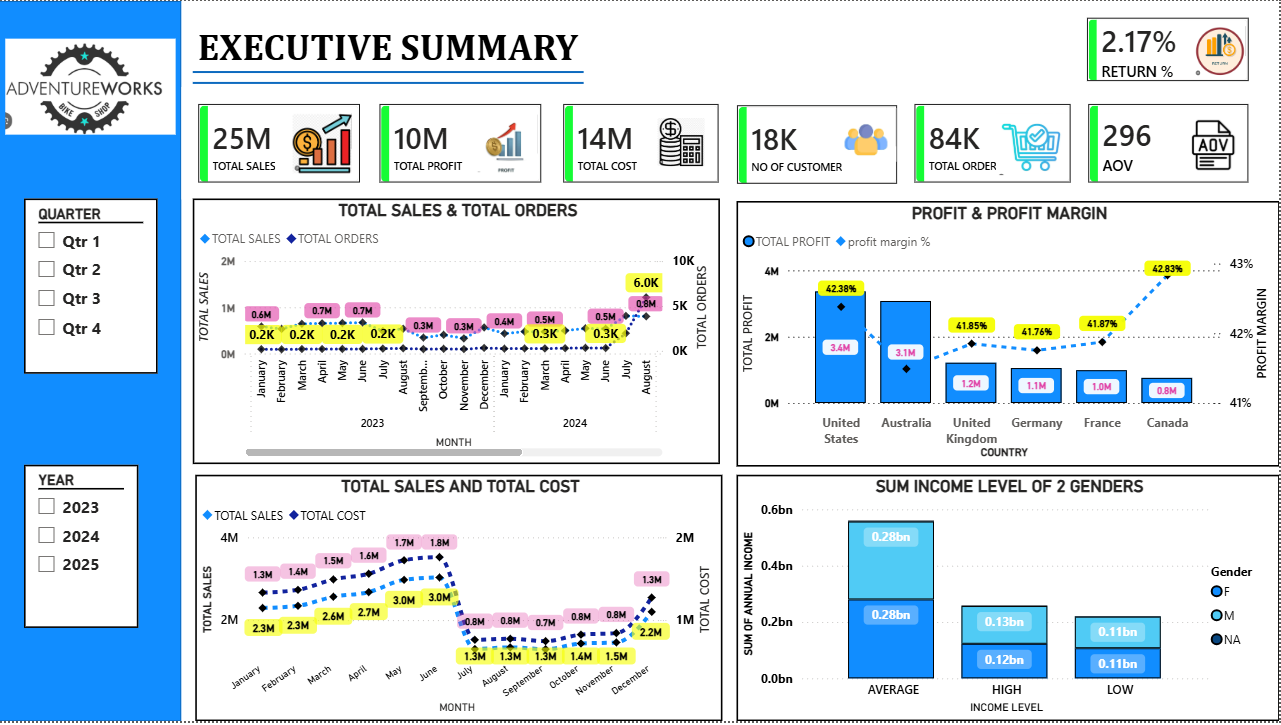

The dashboard page shown, as its layout file describes it:
{"tool":"powerbi","page":{"name":"EXECUTIVE SUMMARY","canvas":[1280,720],"ordinal":0},"visuals":[{"type":"shape","box":[0,0,182.2,720.2],"z":0},{"type":"image","box":[6,31.4,170.1,108.6],"z":1000},{"type":"textbox","box":[194.2,19.3,477.8,78.4],"z":2000},{"type":"shape","box":[194.2,48.3,390.9,66.4],"z":3000},{"type":"shape","box":[194.2,65.1,390.9,12.1],"z":4000},{"type":"cardVisual","fields":{"Data":["ALL MEASURES.TOTAL SALES"]},"box":[182.2,85.7,195.4,112.2],"z":5000},{"type":"cardVisual","fields":{"Data":["ALL MEASURES.total profit"]},"box":[364.3,86.9,195.4,112.2],"z":6000},{"type":"cardVisual","fields":{"Data":["ALL MEASURES.TOTAL COST"]},"box":[547.7,85.7,189.4,112.2],"z":7000},{"type":"cardVisual","fields":{"Data":["ALL MEASURES.NO OF CUSTOMER"]},"box":[721.5,88.1,194.2,112.2],"z":8000},{"type":"cardVisual","fields":{"Data":["ALL MEASURES.total orders"]},"box":[898.8,86.9,190.6,112.2],"z":9000},{"type":"cardVisual","fields":{"Data":["ALL MEASURES.average sales"]},"box":[1072.5,85.7,194.2,112.2],"z":10000},{"type":"cardVisual","fields":{"Data":["ALL MEASURES.RETURN %"]},"box":[1071.3,0,195.4,97.7],"z":11000},{"type":"lineChart","title":"TOTAL SALES & TOTAL ORDERS","fields":{"Y":["ALL MEASURES.TOTAL SALES"],"Y2":["ALL MEASURES.TOTAL ORDERS"],"Category":["Calendar Lookup (1) csv.Date.Variation.Date Hierarchy.Year","Calendar Lookup (1) csv.start of month.Variation.Date Hierarchy.Month"]},"box":[194.2,197.9,527.2,265.4],"z":12000},{"type":"lineClusteredColumnComboChart","title":"PROFIT & PROFIT MARGIN","fields":{"Y":["ALL MEASURES.TOTAL PROFIT"],"Y2":["ALL MEASURES.profit margin %"],"Category":["Territory Lookup (1) csv.Country"]},"box":[737.1,200.3,542.9,265.4],"z":13000},{"type":"columnChart","title":"SUM INCOME LEVEL OF 2 GENDERS","fields":{"Category":["_Customer Lookup (1) - Copy csv.income level"],"Series":["_Customer Lookup (1) - Copy csv.Gender"],"Y":["Sum(_Customer Lookup (1) - Copy csv.AnnualIncome)"]},"box":[737,474,543,246],"z":14000},{"type":"lineChart","title":"TOTAL SALES AND TOTAL COST","fields":{"Category":["Calendar Lookup (1) csv.start of month.Variation.Date Hierarchy.Month"],"Y":["ALL MEASURES.TOTAL SALES"],"Y2":["ALL MEASURES.TOTAL COST"]},"box":[196.6,473.9,527.2,246.1],"z":15000},{"type":"image","box":[1181.1,109.8,65.1,61.5],"z":16000},{"type":"image","box":[994.1,112.2,77.2,61.5],"z":17000},{"type":"image","box":[475.3,111,63.9,62.7],"z":18000},{"type":"image","box":[834.9,107.4,63.9,53.1],"z":19000},{"type":"image","box":[1194.4,19.3,51.9,62.7],"z":20000},{"type":"image","box":[290.8,112.2,63.9,60.3],"z":21000},{"type":"image","box":[651.5,115.8,61.5,49.5],"z":22000},{"type":"slicer","fields":{"Values":["Calendar Lookup (1) csv.Date.Variation.Date Hierarchy.Year"]},"box":[25.3,463.3,114.6,162.9],"z":23000},{"type":"slicer","fields":{"Values":["Calendar Lookup (1) csv.Date.Variation.Date Hierarchy.Quarter"]},"box":[25.3,197.9,133.9,174.9],"z":24000}]}

Visuals, with their boxes in screenshot pixels (x1, y1, x2, y2), scaled from the page's 1280x720 canvas onto the 1281x725 screenshot:
shape: crop(0, 0, 182, 724)
image: crop(6, 32, 176, 141)
textbox: crop(194, 19, 673, 98)
shape: crop(194, 49, 586, 115)
shape: crop(194, 66, 586, 78)
cardVisual - ALL MEASURES.TOTAL SALES: crop(182, 86, 378, 199)
cardVisual - ALL MEASURES.total profit: crop(365, 88, 560, 200)
cardVisual - ALL MEASURES.TOTAL COST: crop(548, 86, 738, 199)
cardVisual - ALL MEASURES.NO OF CUSTOMER: crop(722, 89, 916, 202)
cardVisual - ALL MEASURES.total orders: crop(900, 88, 1090, 200)
cardVisual - ALL MEASURES.average sales: crop(1073, 86, 1268, 199)
cardVisual - ALL MEASURES.RETURN %: crop(1072, 0, 1268, 98)
"TOTAL SALES & TOTAL ORDERS" lineChart: crop(194, 199, 722, 467)
"PROFIT & PROFIT MARGIN" lineClusteredColumnComboChart: crop(738, 202, 1280, 469)
"SUM INCOME LEVEL OF 2 GENDERS" columnChart: crop(738, 477, 1280, 724)
"TOTAL SALES AND TOTAL COST" lineChart: crop(197, 477, 724, 724)
image: crop(1182, 111, 1247, 172)
image: crop(995, 113, 1072, 175)
image: crop(476, 112, 540, 175)
image: crop(836, 108, 900, 162)
image: crop(1195, 19, 1247, 83)
image: crop(291, 113, 355, 174)
image: crop(652, 117, 714, 166)
slicer - Calendar Lookup (1) csv.Date.Variation.Date Hierarchy.Year: crop(25, 467, 140, 631)
slicer - Calendar Lookup (1) csv.Date.Variation.Date Hierarchy.Quarter: crop(25, 199, 159, 375)
